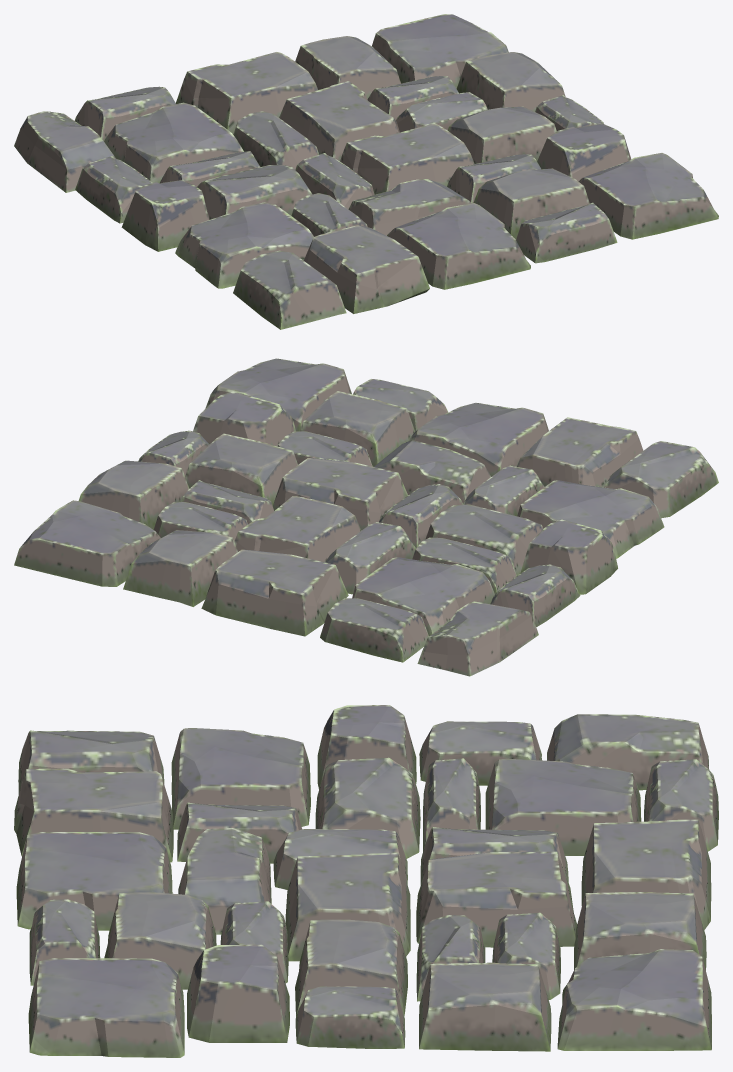
File: rock_path_wide.glb
The picture shows the model from 3 angles, top to bottom: view 1: azimuth 30°, elevation 25°; view 2: azimuth 150°, elevation 25°; view 3: azimuth 270°, elevation 25°; orthographic projection. The views are drawn at different scales.
Parts seen in each view (by area): view 1: RockPath_Square_Wide; view 2: RockPath_Square_Wide; view 3: RockPath_Square_Wide.
Part boxes in pixels (<box>): RockPath_Square_Wide: <box>14,14,718,329</box>; RockPath_Square_Wide: <box>14,358,718,676</box>; RockPath_Square_Wide: <box>14,705,718,1057</box>.
Bounding box in the file's own units: 2.05 × 0.1763 × 1.99.
Materials: 1 (1 with a texture image).
